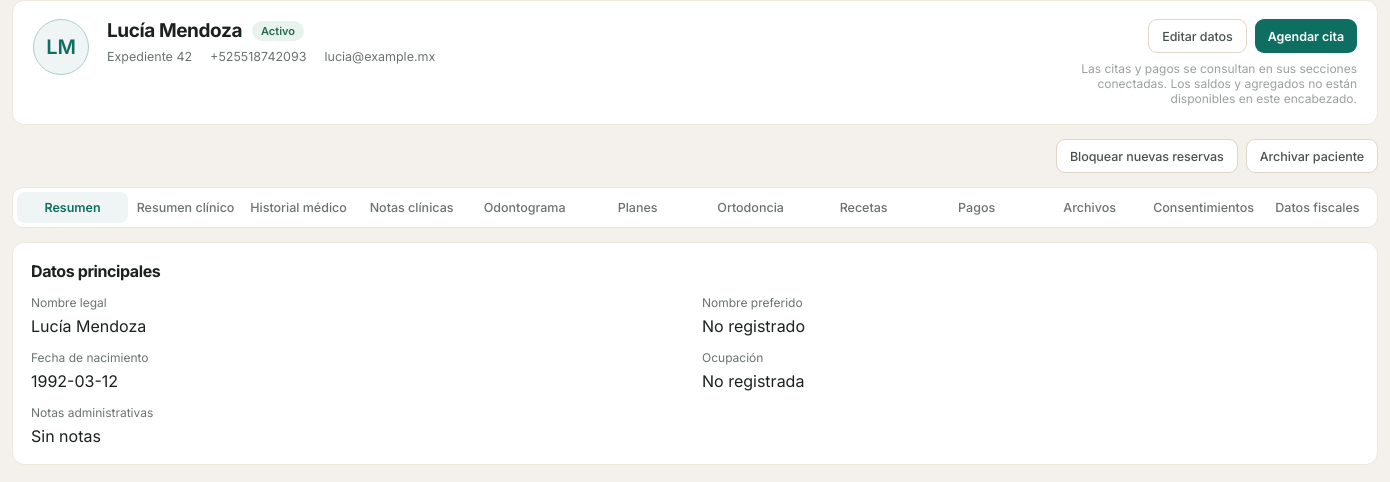
Test case: PatientRecordPage › lazily loads the selected patient treatment plans without fixture rows
The width and height of the screenshot is (1390, 482).
Expected: the heading "Lucía Mendoza" is shown, x1=107 y1=19 x2=242 y2=42
Click the tab "Planes" at (638, 208), box x1=582 y1=192 x2=693 y2=223
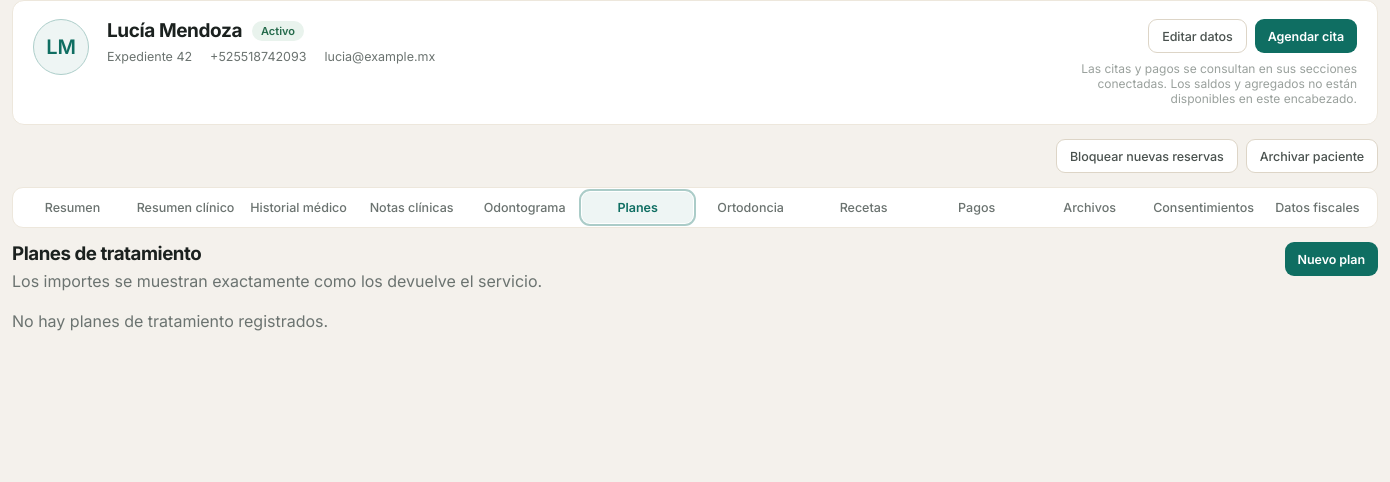
Now the text "No hay planes de tratamiento registrados." is shown, box x1=12 y1=311 x2=328 y2=331
